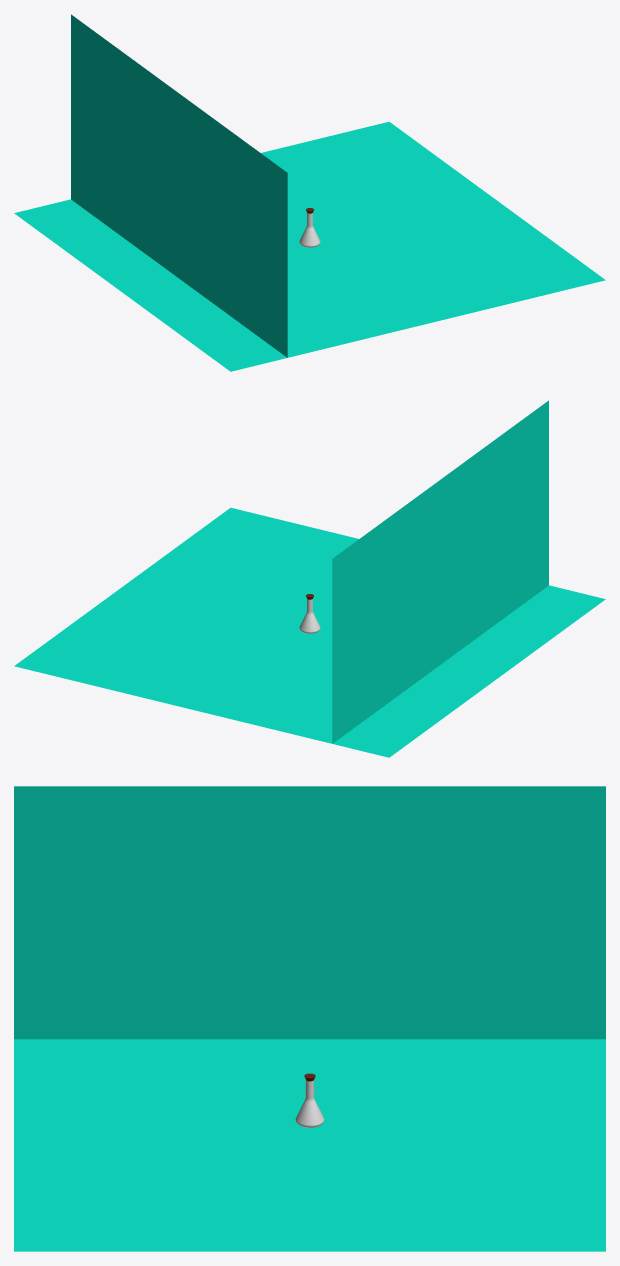
File: Fiole.fbx
3 renders of one model, top to bottom at view 1: azimuth 30°, elevation 25°; view 2: azimuth 150°, elevation 25°; view 3: azimuth 270°, elevation 25°, orthographic. The views are drawn at different scales.
Visible parts, largest first — view 1: Plane; view 2: Plane; view 3: Plane, Fiole.
Boxes of the visible parts, box(x1,y1,x2,y2) form: Plane: box(14, 14, 605, 371); Plane: box(14, 400, 605, 757); Plane: box(14, 786, 605, 1251); Fiole: box(295, 1080, 324, 1127).
Size of the model in its own units: 6112 by 2882 by 6112.
